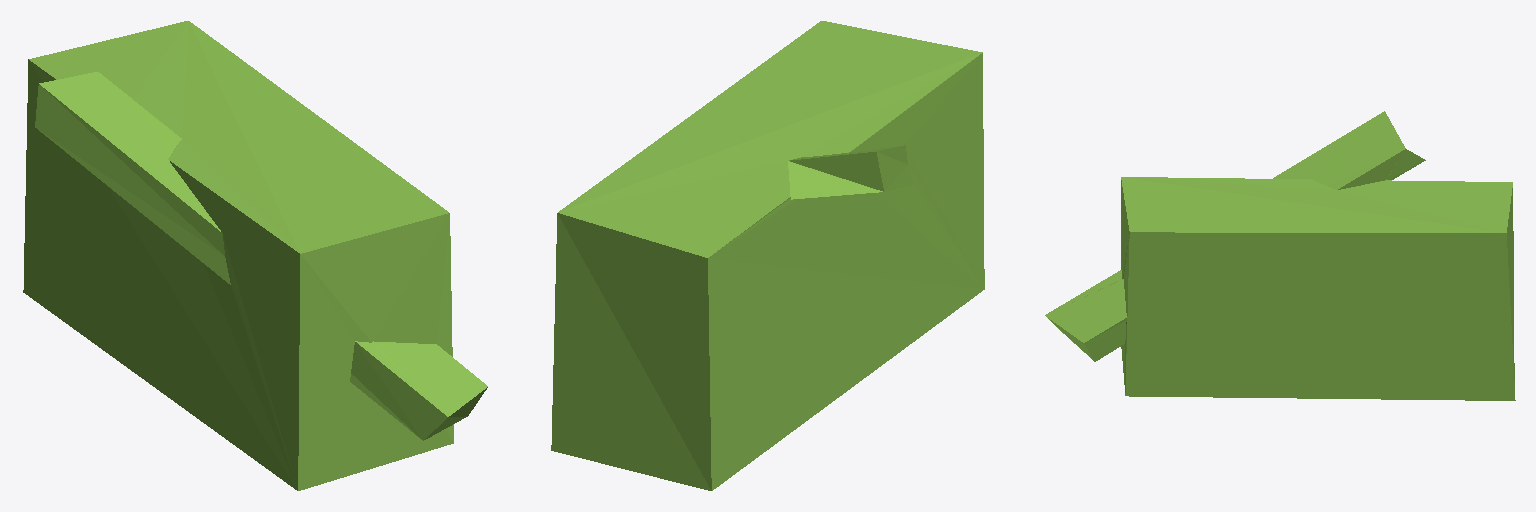
robot.urdf — blob936:

<robot name="blob936">
  <link name="random_obj_936">
    <contact>
      <lateral_friction value="1.0"/>
      <rolling_friction value="0.0"/>
      <inertia_scaling value="3.0"/>
      <contact_cfm value="0.0"/>
      <contact_erp value="1.0"/>
    </contact>
    <inertial>
      <origin rpy="0 0 0" xyz="0 0 0"/>
      <mass value="0.0859"/>
      <inertia ixx="1" ixy="0" ixz="0" iyy="1" iyz="0" izz="0"/>
    </inertial>
    <visual>
      <origin rpy="0 0 0" xyz="0 0 0"/>
      <geometry>
        <mesh filename="936.obj" scale="0.0076 0.0076 0.0076"/>
      </geometry>
      <material name="blockmat">
        <color rgba="0.58 0.78 0.36 1"/>
      </material>
    </visual>
    <collision>
      <origin rpy="0 0 0" xyz="0 0 0"/>
      <geometry>
        <mesh filename="936_coll.obj" scale="0.0076 0.0076 0.0076"/>
      </geometry>
    </collision>
  </link>
</robot>

--- Facts derived from the render (not from the file) ---
3 views of the same robot in one strip: view 1: azimuth 30°, elevation 25°; view 2: azimuth 150°, elevation 25°; view 3: azimuth 270°, elevation 25° (orthographic).
Model blob936 with 1 links and 0 joints (none), rooted at random_obj_936, posed all joints at 0.
Links seen in each view (by area): view 1: random_obj_936; view 2: random_obj_936; view 3: random_obj_936.
Link boxes in pixels (box(x1,y1,x2,y2)): random_obj_936: box(23, 21, 487, 490); random_obj_936: box(551, 21, 984, 490); random_obj_936: box(1045, 111, 1515, 400).
Bounding box of the posed robot: 0.0471 × 0.1093 × 0.0538 m (x, y, z).
Meshes: 1 distinct files referenced, 1 mesh visuals loaded (1 OBJ).
